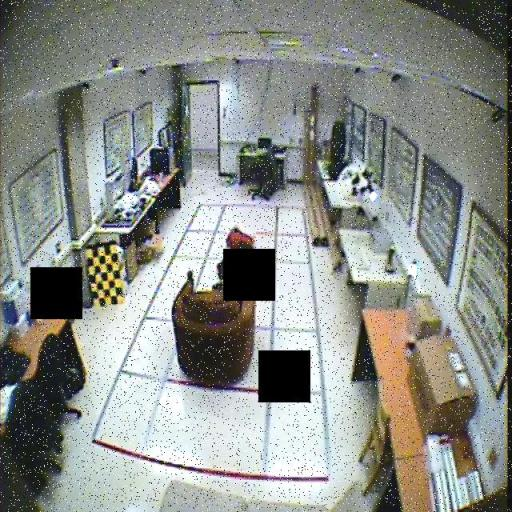Fall: (213, 223, 256, 291)
